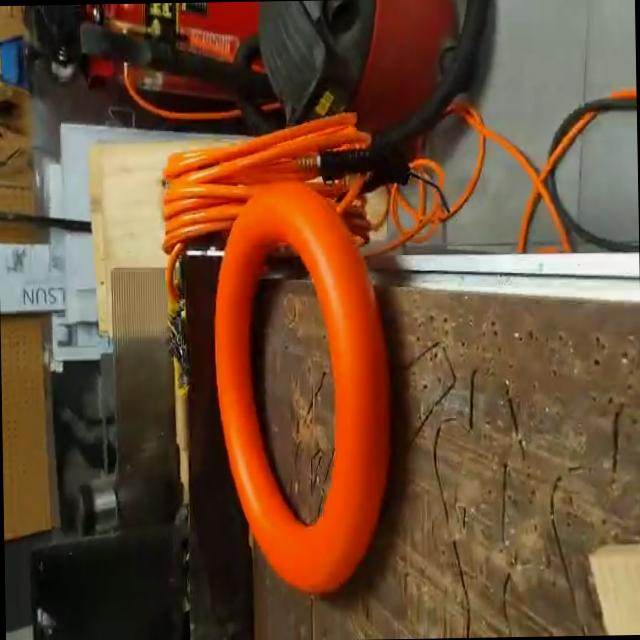note: (207, 177, 397, 604)
